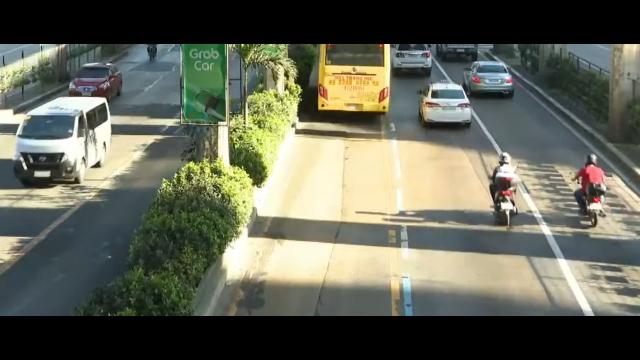bus: (314, 46, 389, 118)
car: (417, 79, 472, 129), (66, 63, 124, 101), (463, 57, 514, 100), (392, 39, 432, 79)
motorcycle: (483, 152, 524, 232), (571, 152, 608, 229)
van: (17, 91, 128, 191)
